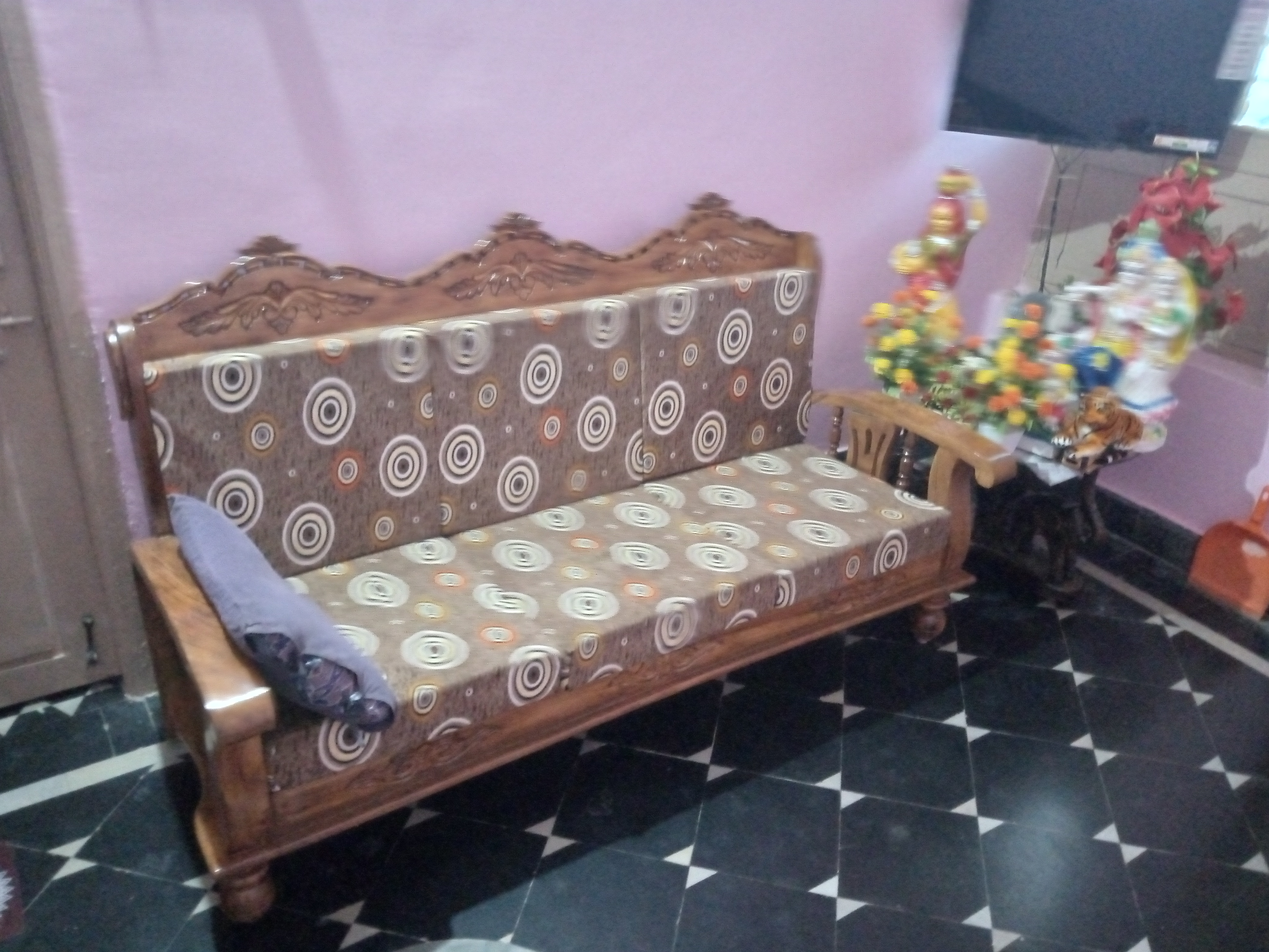sofa: (106, 193, 1019, 932)
